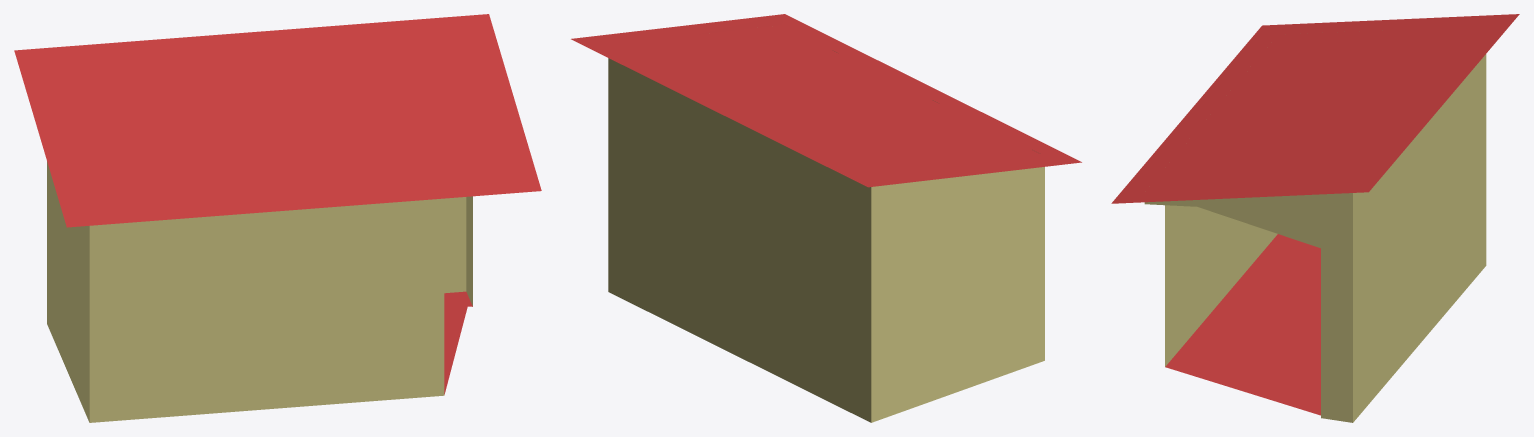
3 views of the same model, side by side, from view 1: azimuth 30°, elevation 25°; view 2: azimuth 150°, elevation 25°; view 3: azimuth 270°, elevation 25° (orthographic). The views are drawn at different scales.
Size of the model in its own units: 14.73 by 11.71 by 7.74.
